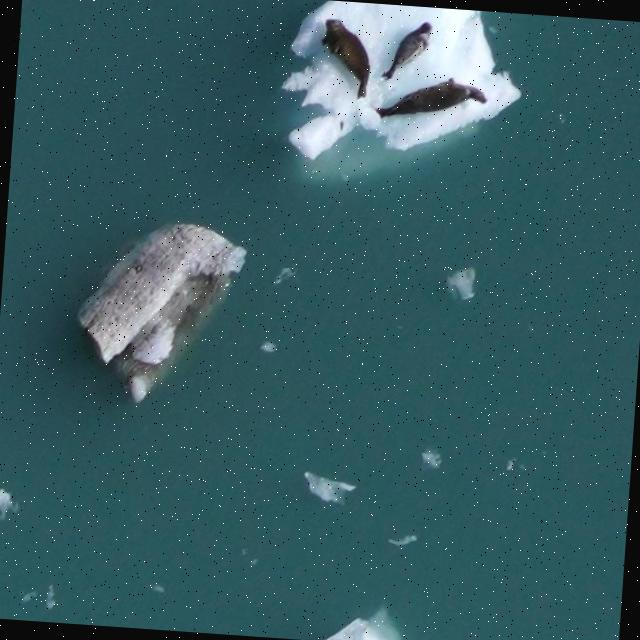seal: (311, 12, 389, 103), (373, 74, 486, 123), (375, 19, 437, 80)
